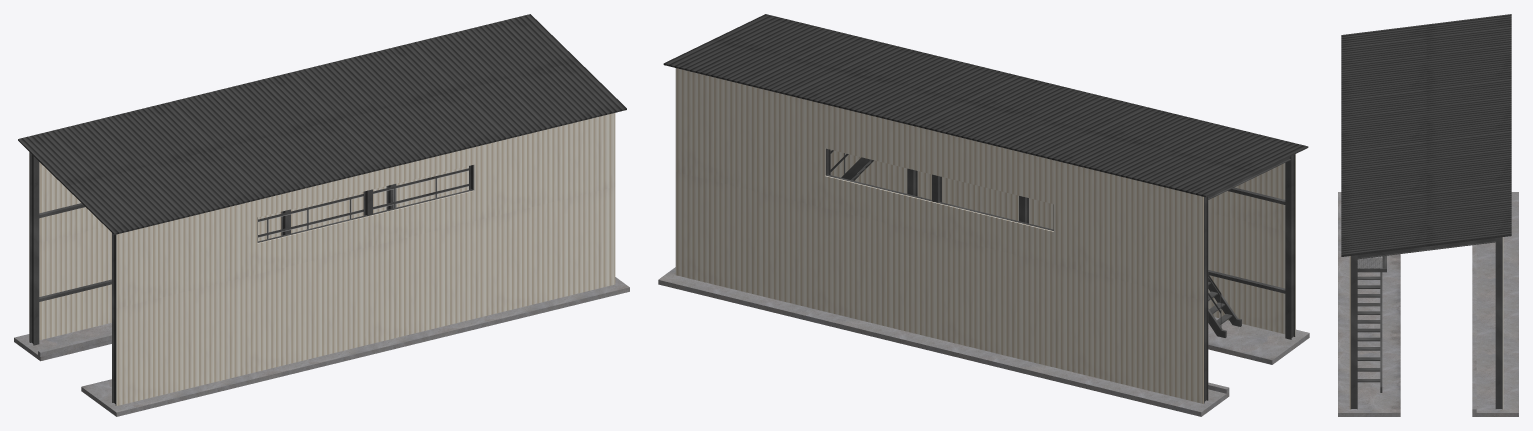
The model's file is plant-building41.glb.
The picture shows the model from 3 angles, left to right: view 1: azimuth 30°, elevation 25°; view 2: azimuth 150°, elevation 25°; view 3: azimuth 270°, elevation 25°; orthographic projection. The views are drawn at different scales.
Visible parts, largest first — view 1: Object8935796; view 2: Object8935796; view 3: Object8935796.
Boxes of the visible parts, x1=… form: Object8935796: x1=14, y1=14, x2=629, y2=416; Object8935796: x1=658, y1=14, x2=1309, y2=416; Object8935796: x1=1338, y1=14, x2=1518, y2=416.
Size of the model in its own units: 21.08 by 8.17 by 7.28.
1 material, 1 textured.
